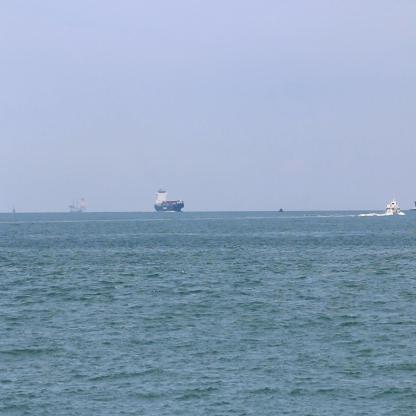Container Ship: (153, 181, 186, 215), (68, 192, 88, 214), (408, 204, 416, 213)
